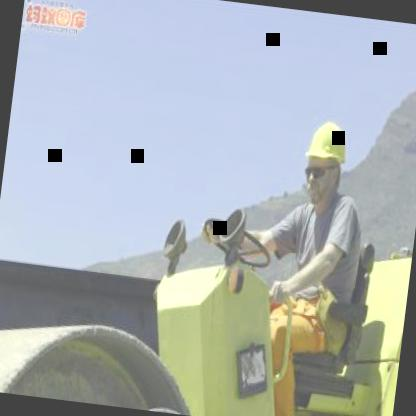helmet: (294, 116, 353, 209)
